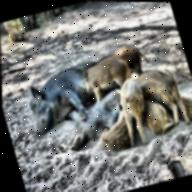boar: (55, 83, 167, 161), (16, 54, 116, 131), (130, 58, 192, 131), (109, 69, 160, 153), (77, 55, 135, 99)
